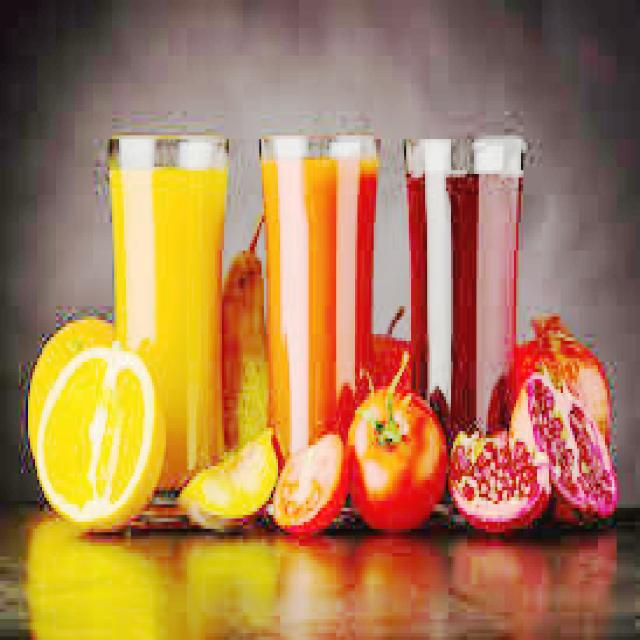drink: (257, 125, 390, 494), (402, 132, 526, 480)
